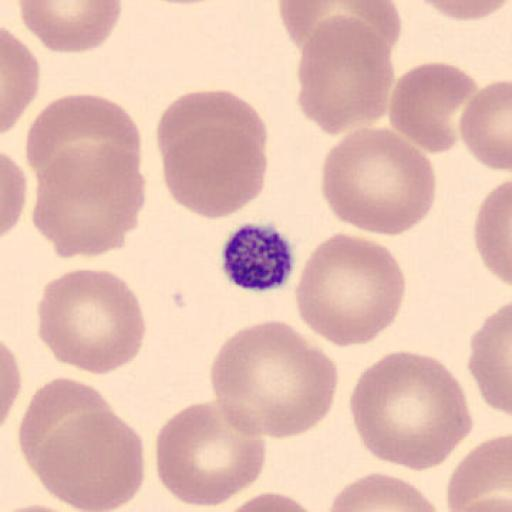Platelet: (219, 221, 297, 294)
RBC: (210, 318, 339, 441), (348, 348, 474, 473), (294, 230, 408, 348), (32, 142, 146, 260), (319, 125, 439, 237), (35, 266, 148, 376), (154, 399, 268, 507), (295, 15, 396, 136), (25, 92, 143, 189), (33, 410, 146, 511), (160, 124, 270, 220), (156, 87, 270, 178), (17, 376, 115, 477), (388, 60, 480, 154), (279, 0, 402, 59), (17, 0, 124, 54), (468, 298, 512, 418), (446, 433, 512, 512), (458, 78, 512, 172), (326, 471, 440, 512), (473, 176, 512, 289), (1, 25, 40, 134), (0, 149, 28, 240), (211, 491, 331, 512), (0, 337, 23, 435), (418, 0, 512, 23), (0, 502, 80, 512), (143, 0, 232, 4)
